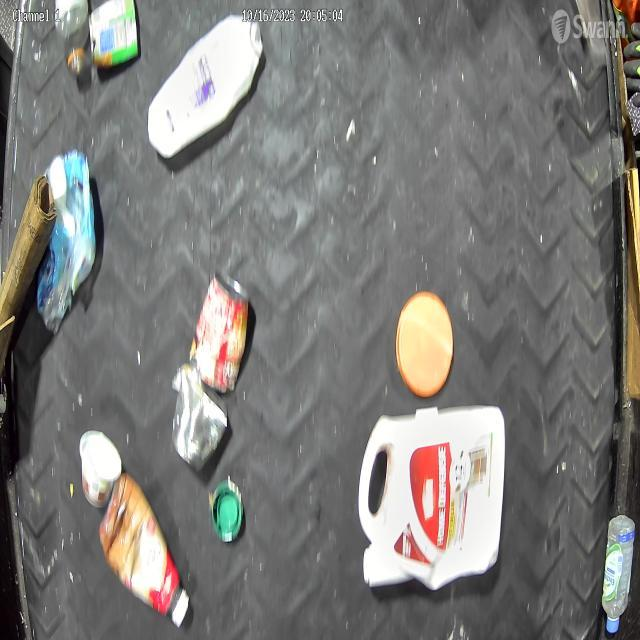can: (187, 272, 250, 396), (170, 363, 230, 471), (88, 0, 139, 68)
milk_jug: (147, 14, 264, 158)
non_white_jug: (358, 404, 506, 592)
plastic_bottle: (602, 513, 636, 636), (53, 0, 89, 77)
